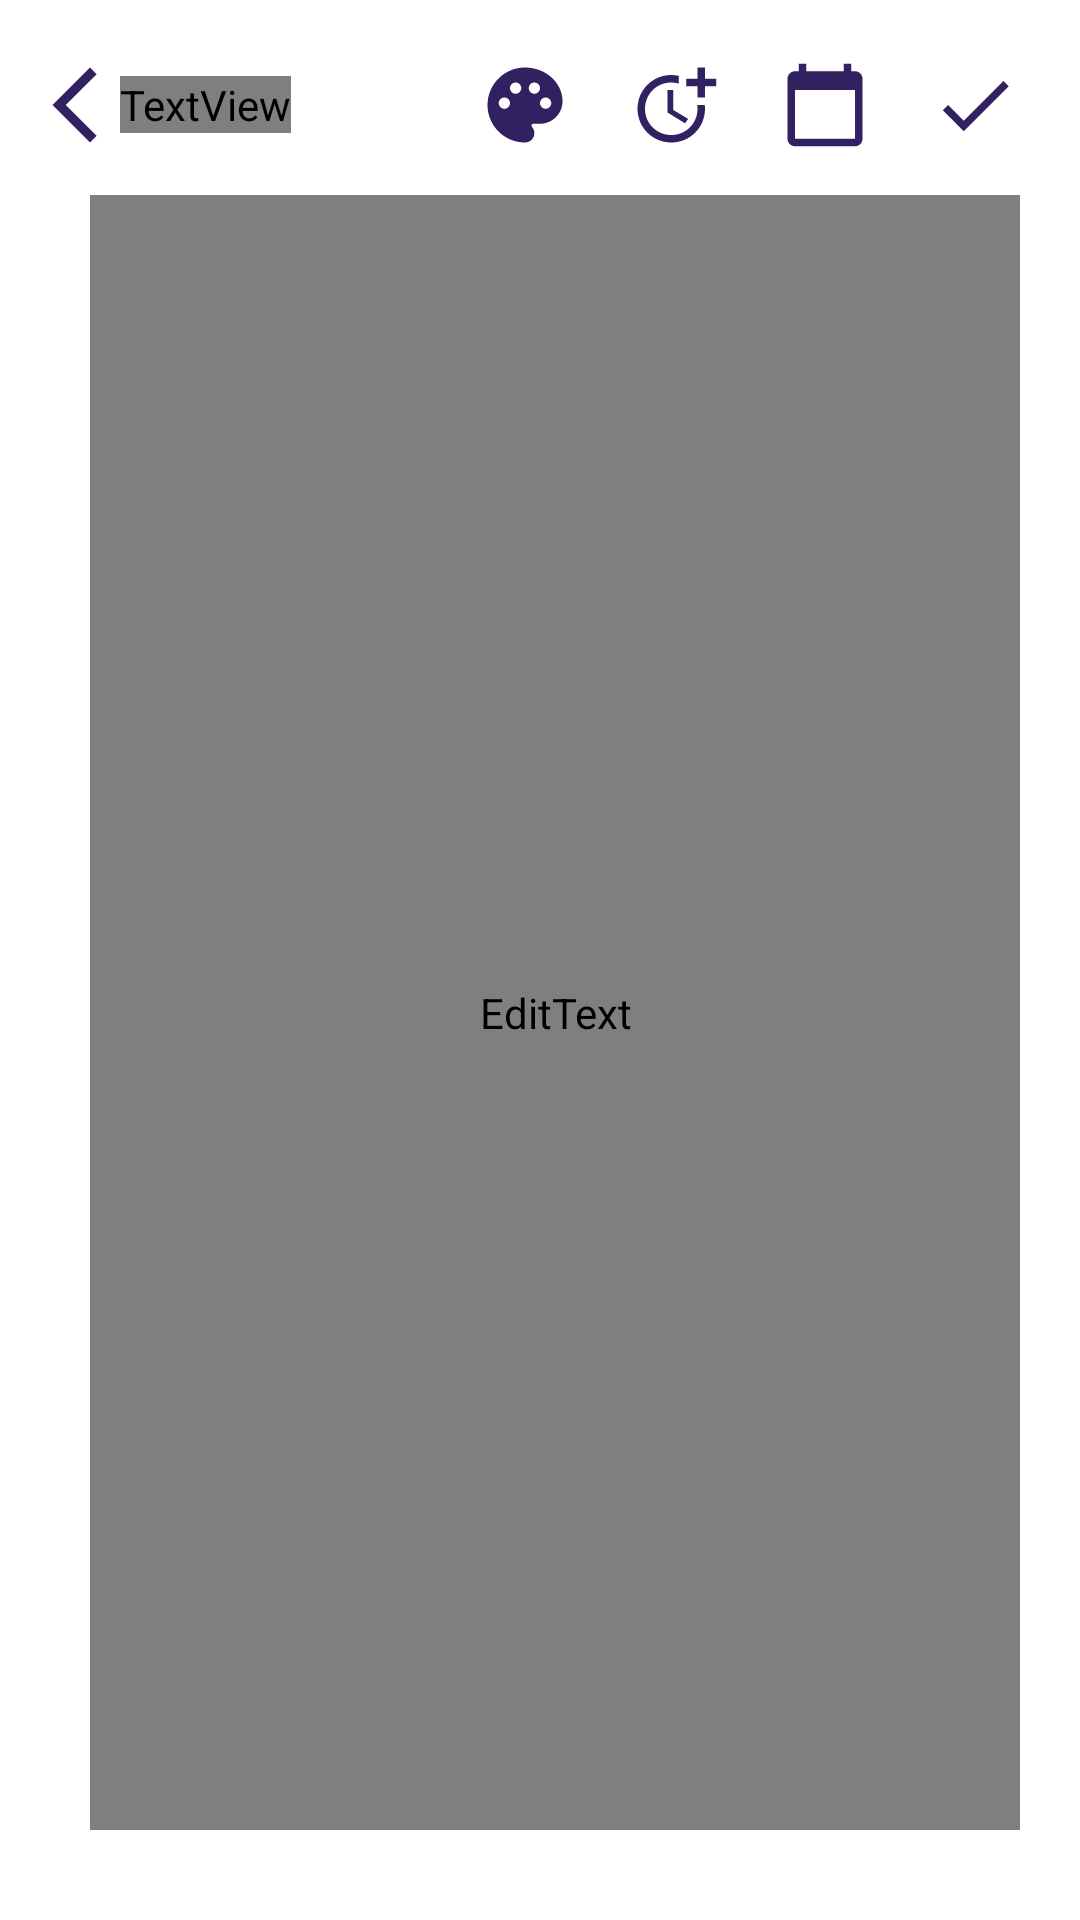

Screen size 1080*1920. Icon name, then its center in pixels as (x,y):
back: (74,105)
calendar: (825,105)
check no circle: (976,106)
more time: (677,105)
palette: (525,105)
